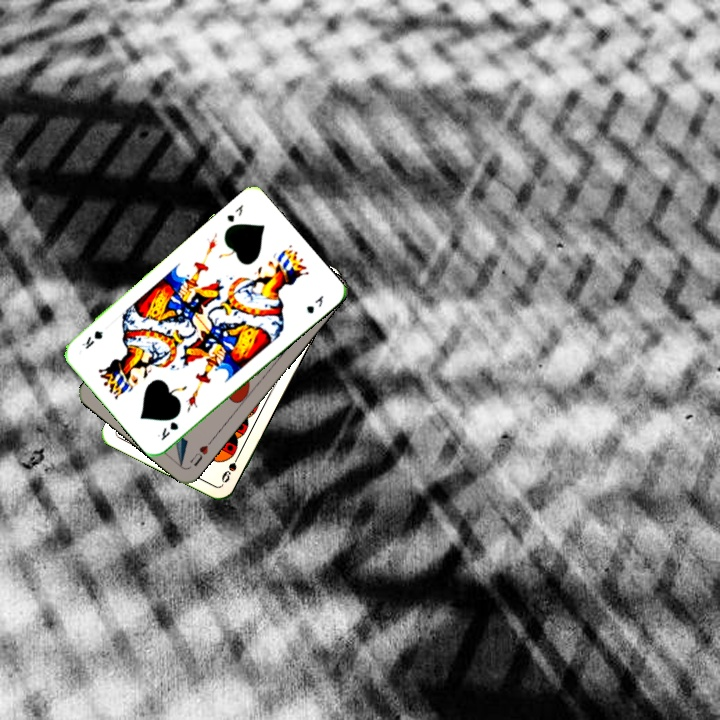GK: (157, 417, 181, 443), (223, 200, 246, 225)
HU: (185, 435, 215, 469)
S9: (217, 448, 243, 486)
